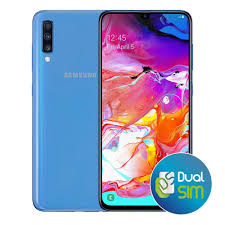samsung: (97, 9, 193, 212), (29, 10, 103, 211)
